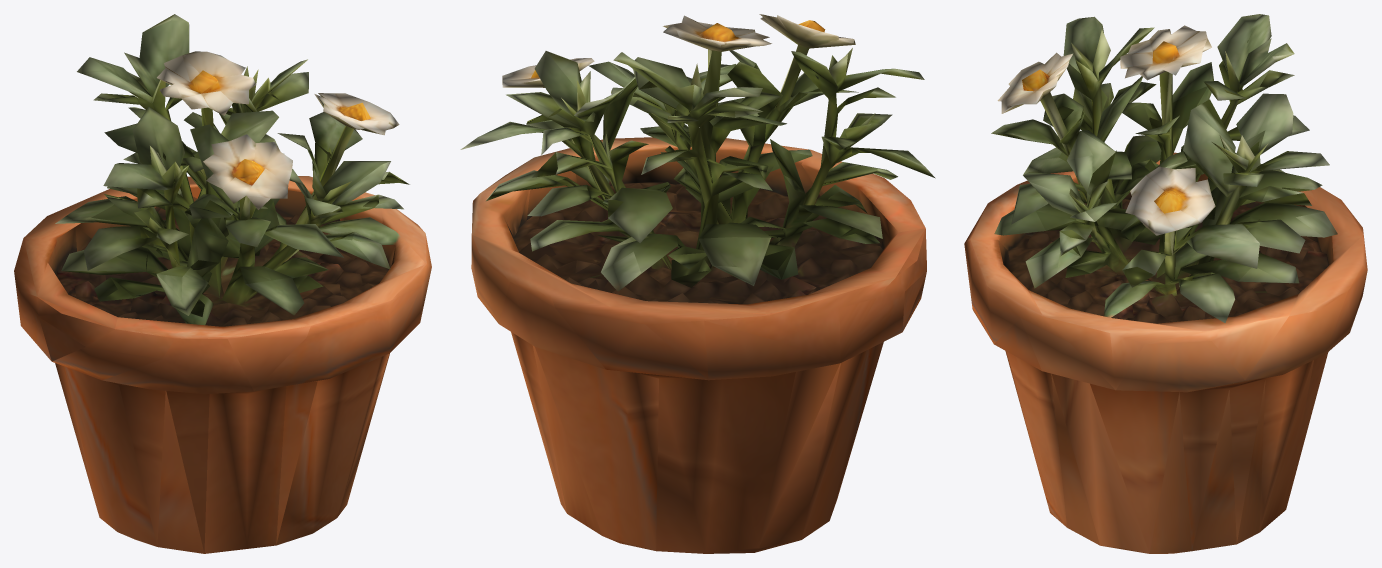
File: pot_round.glb
3 renders of one model, left to right at view 1: azimuth 30°, elevation 25°; view 2: azimuth 150°, elevation 25°; view 3: azimuth 270°, elevation 25°, orthographic. The views are drawn at different scales.
Visible parts, largest first — view 1: tripo_node_da4deb60; view 2: tripo_node_da4deb60; view 3: tripo_node_da4deb60.
Boxes of the visible parts, <box> form: tripo_node_da4deb60: <box>14,14,431,553</box>; tripo_node_da4deb60: <box>460,14,935,553</box>; tripo_node_da4deb60: <box>964,14,1367,553</box>.
Size of the model in its own units: 0.6437 by 0.7334 by 0.5905.
Materials: 1 (1 with a texture image).
